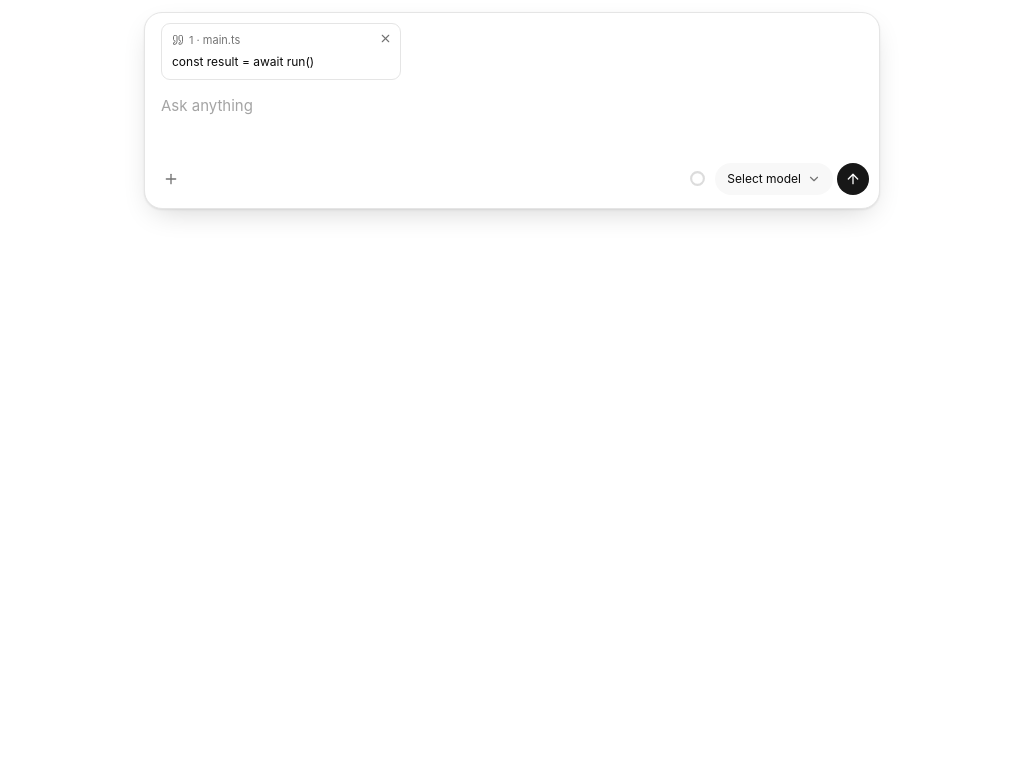
Test: lets the composer preview and remove annotations without expanding an inline inspector
Expected: the button named "Send" is enabled, [837,162,869,194]
Click the button with aria-label "Open excerpt 1: main.ts": {"x": 268, "y": 51} [162,24,375,78]
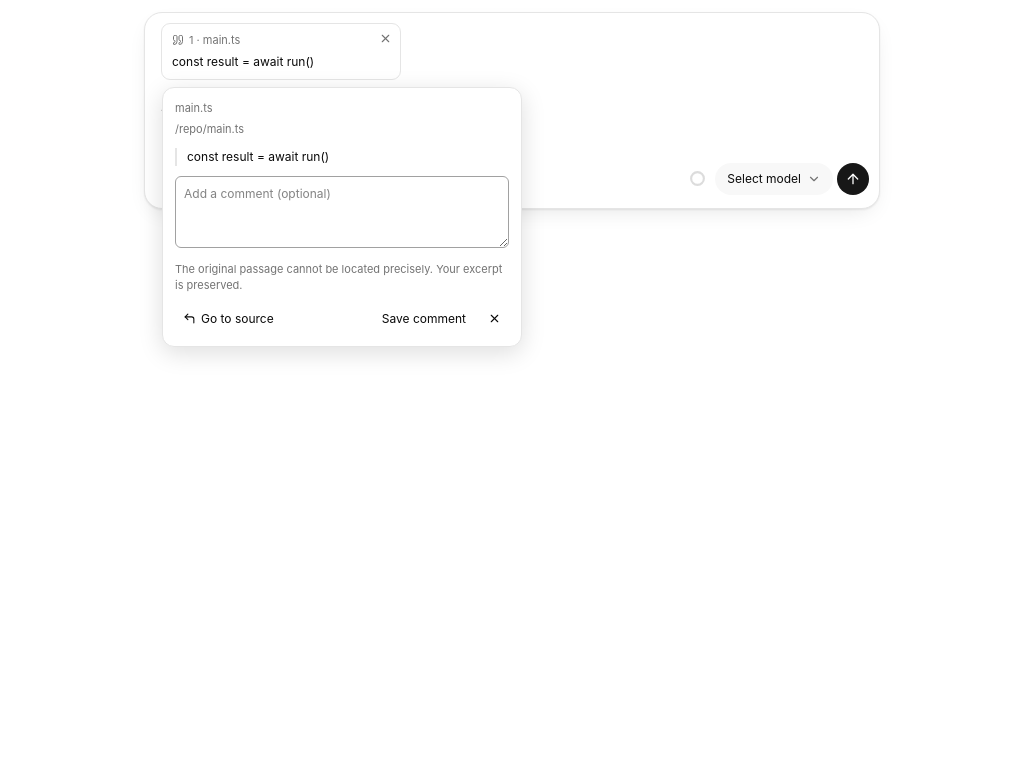
Expected: the text "const result = await run()" is shown 2 times, [172,54,314,68]; [175,148,509,166]
Result: the text box named "Excerpt comment (optional)" is shown at [175,176,509,248]
Result: the button "Save comment" is shown at [374,304,474,334]
Click the button named "Remove excerpt 1": {"x": 386, "y": 38} [375,28,396,49]
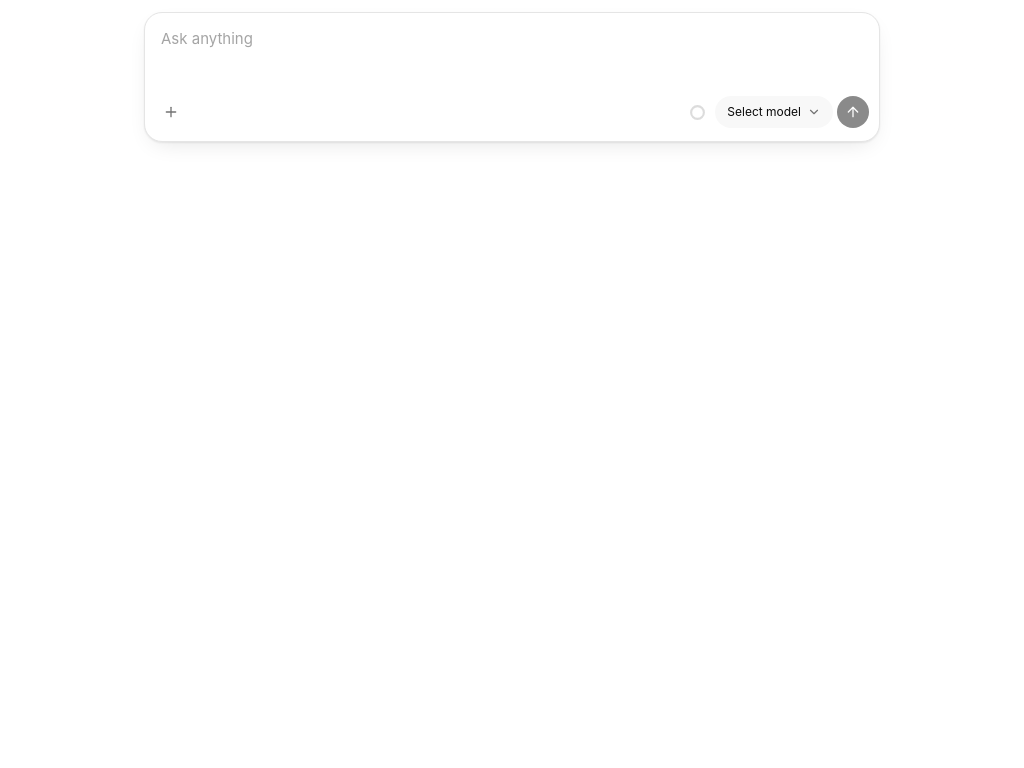
Result: the button named "Send" is disabled at [837,96,869,128]
